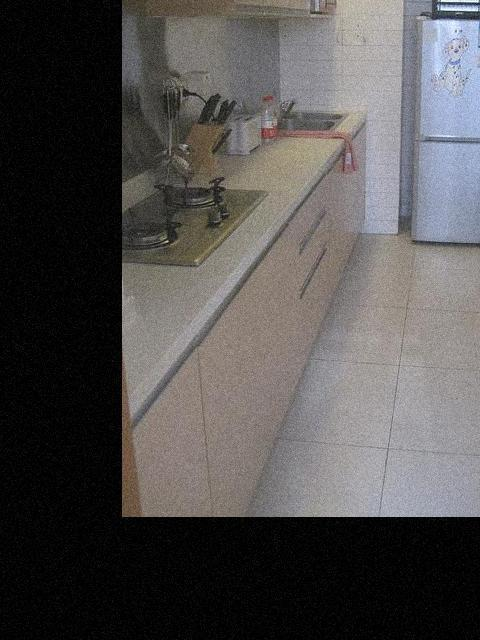Lavaplatos: (259, 88, 362, 150)
